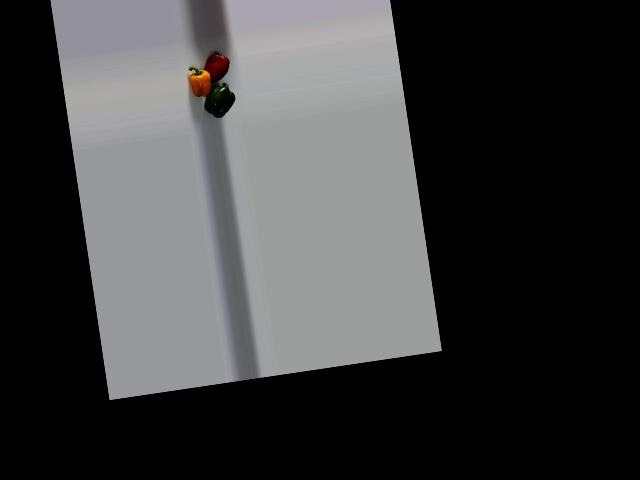bell_pepper: (185, 63, 217, 99)
